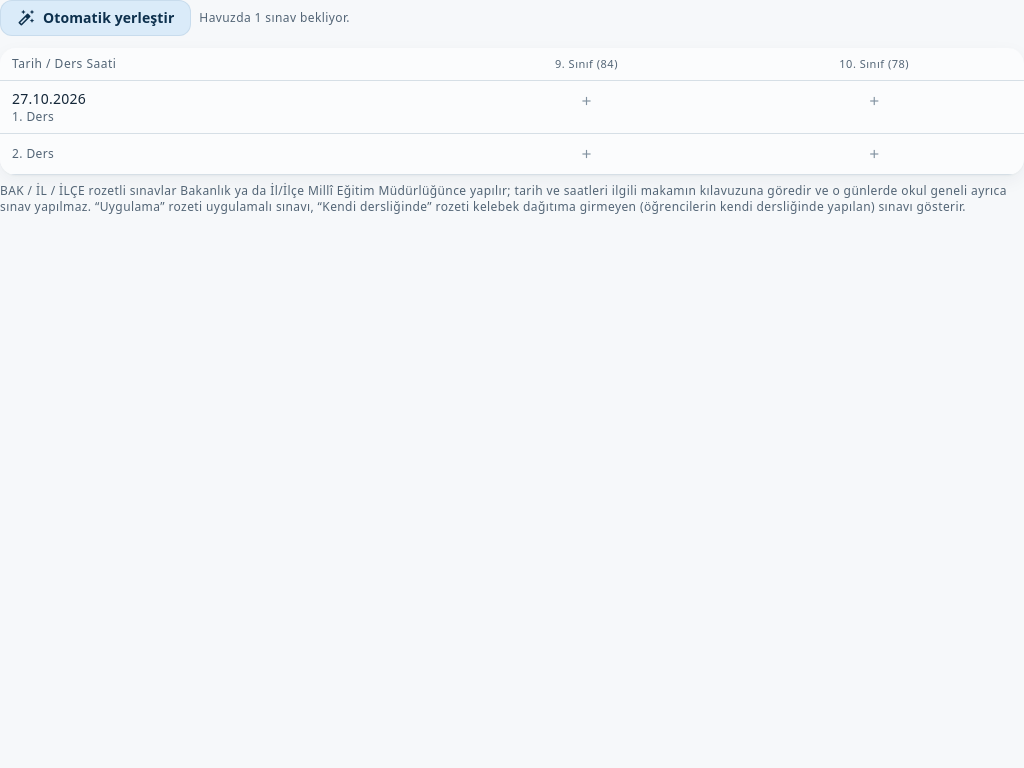
it: TakvimYerlestirmePaneli › tıkla-yerleştir: dialog'dan girdi seçilir; backend uyarısı KALICI bantta birikir
Click the button named "27.10.2026 1. Ders 9. Sınıf sınav yerleştir". click: (586, 101)
box: x1=570 y1=85 x2=602 y2=117
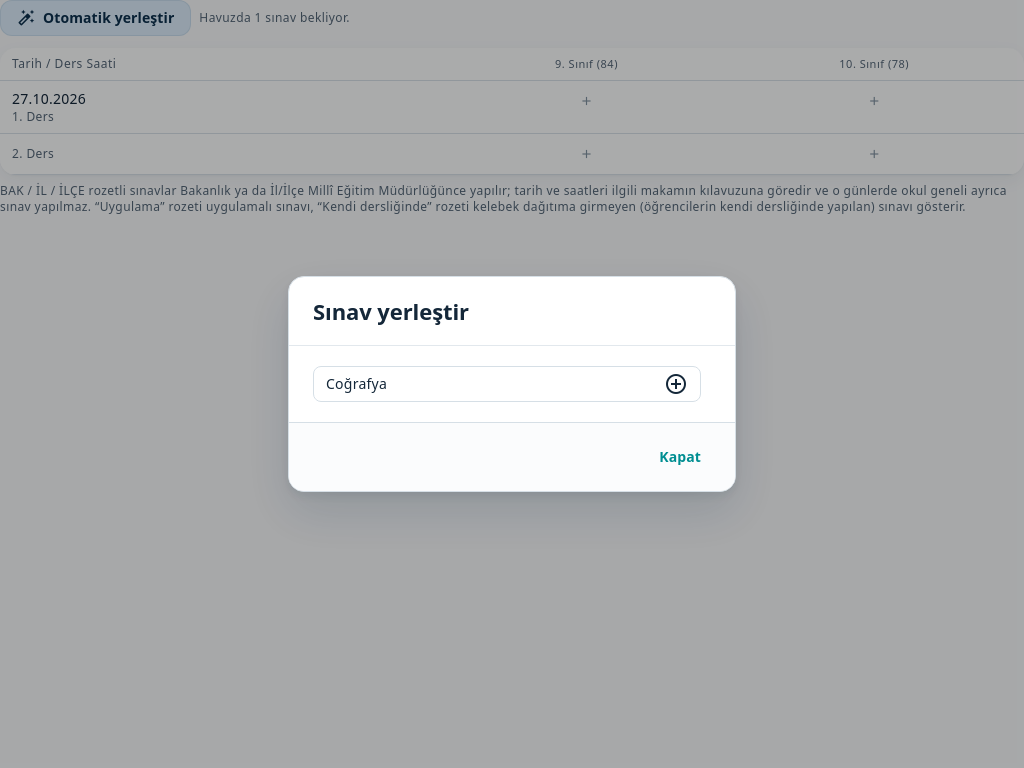
Click the button "Coğrafya". click: (357, 384)
box: x1=313 y1=366 x2=701 y2=402
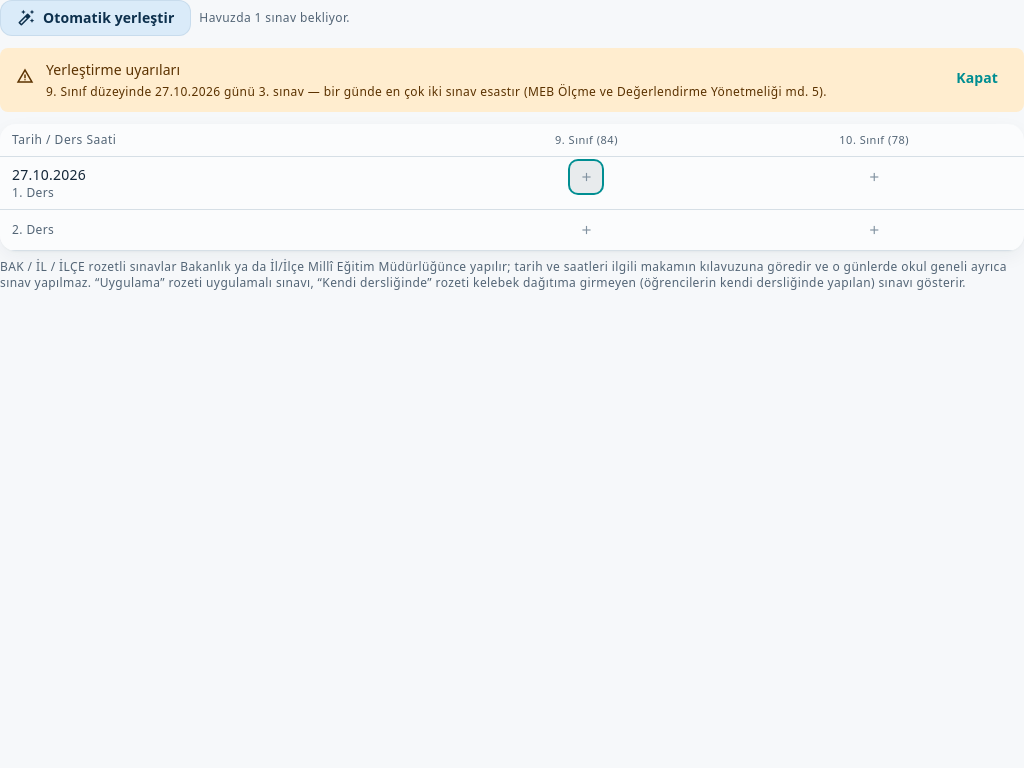
Click the button named "27.10.2026 2. Ders 9. Sınıf sınav yerleştir". click: (586, 230)
box: x1=570 y1=214 x2=602 y2=246
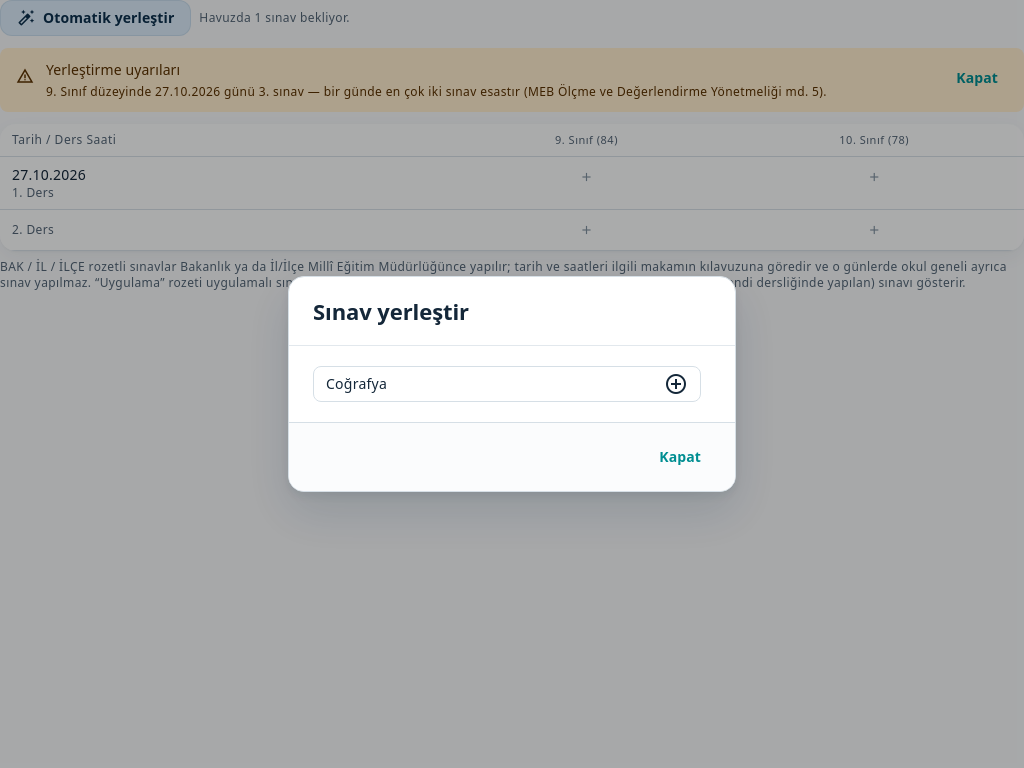
Click the button "Coğrafya". click: (357, 384)
box: x1=313 y1=366 x2=701 y2=402
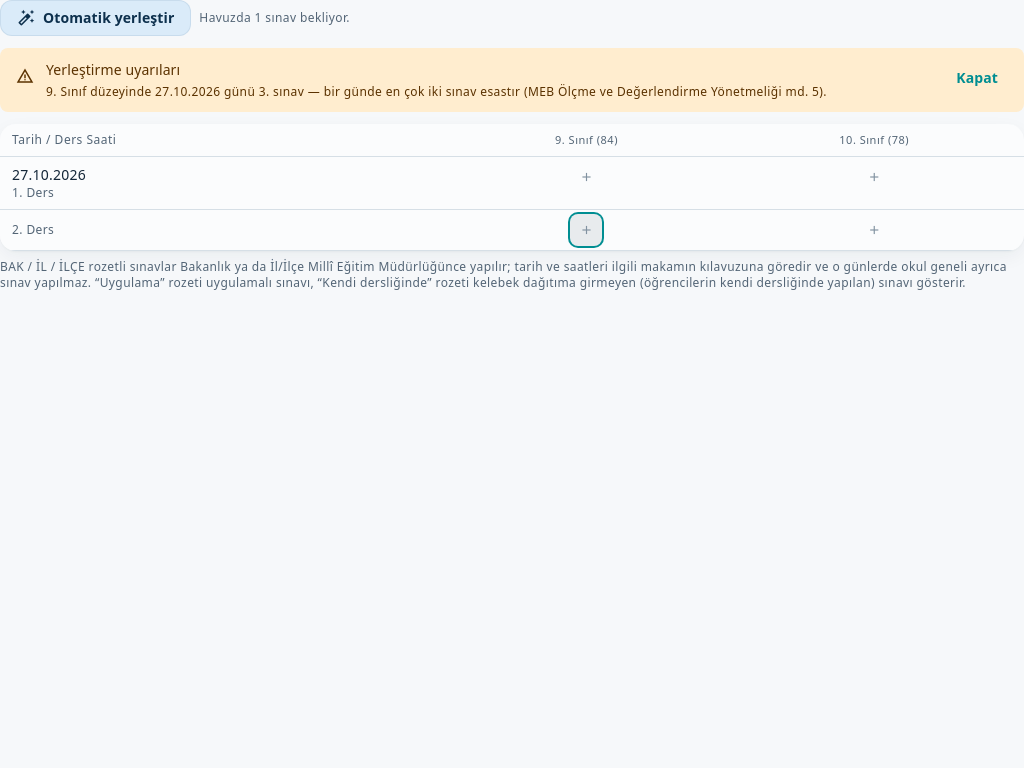
Click the button "Kapat". click: (977, 78)
box: x1=946 y1=60 x2=1008 y2=96
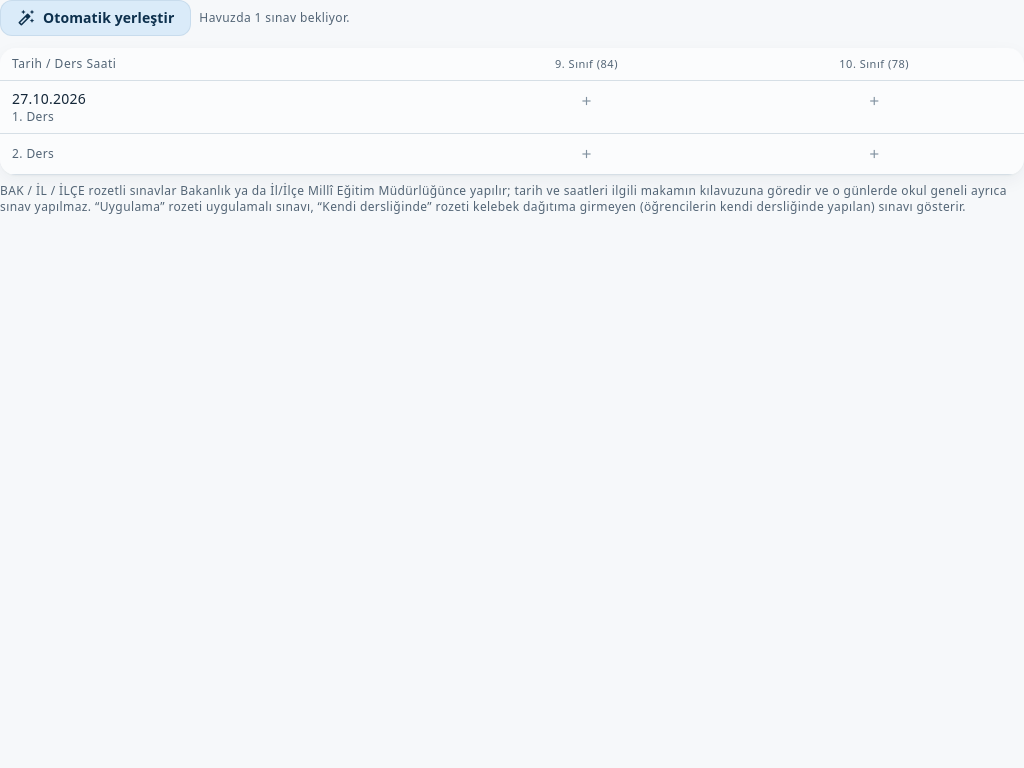
Expected: the text "Yerleştirme uyarıları" is gone
